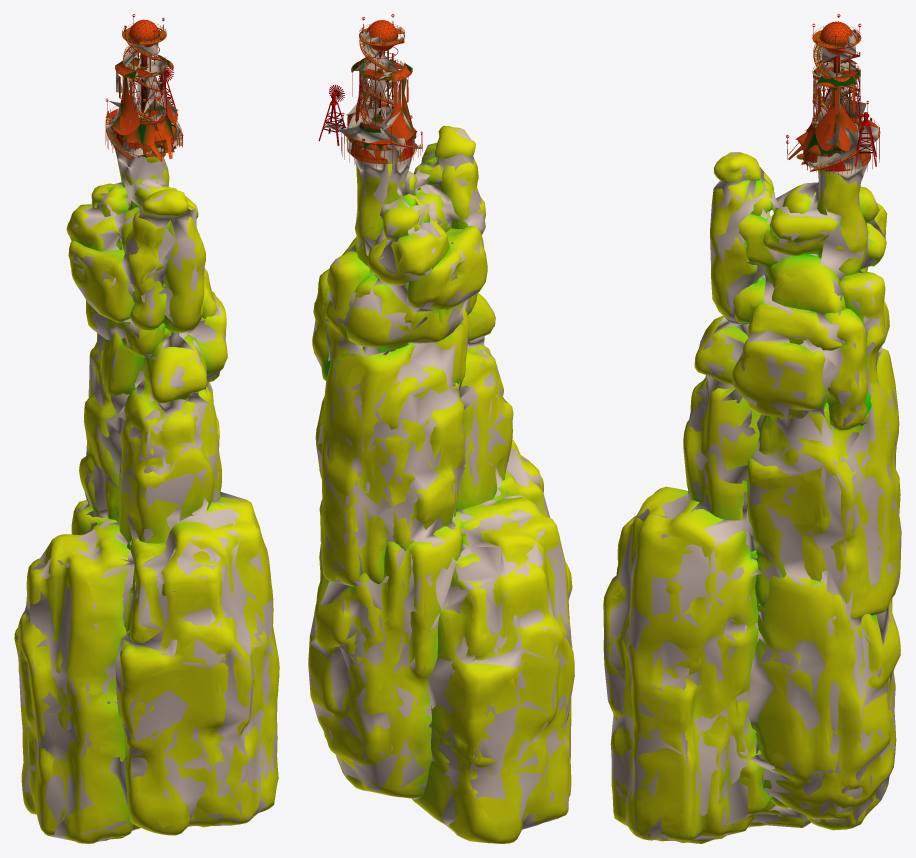
Rendered from WarpStoneB.glb.
3 renders of one model, left to right at view 1: azimuth 30°, elevation 25°; view 2: azimuth 150°, elevation 25°; view 3: azimuth 270°, elevation 25°, orthographic. The views are drawn at different scales.
Visible parts, largest first — view 1: L0, L1, L2; view 2: L0, L1, L2; view 3: L0, L1, L2.
Boxes of the visible parts, x1,y1,x2,y2 form: L0: [14, 14, 279, 843]; L1: [15, 16, 278, 841]; L2: [17, 30, 279, 841]; L0: [308, 14, 574, 843]; L1: [308, 20, 574, 842]; L2: [308, 31, 574, 835]; L0: [603, 14, 901, 843]; L1: [603, 22, 901, 843]; L2: [603, 30, 901, 840].
Bounding box in the file's own units: 63.84 × 226 × 72.77.
